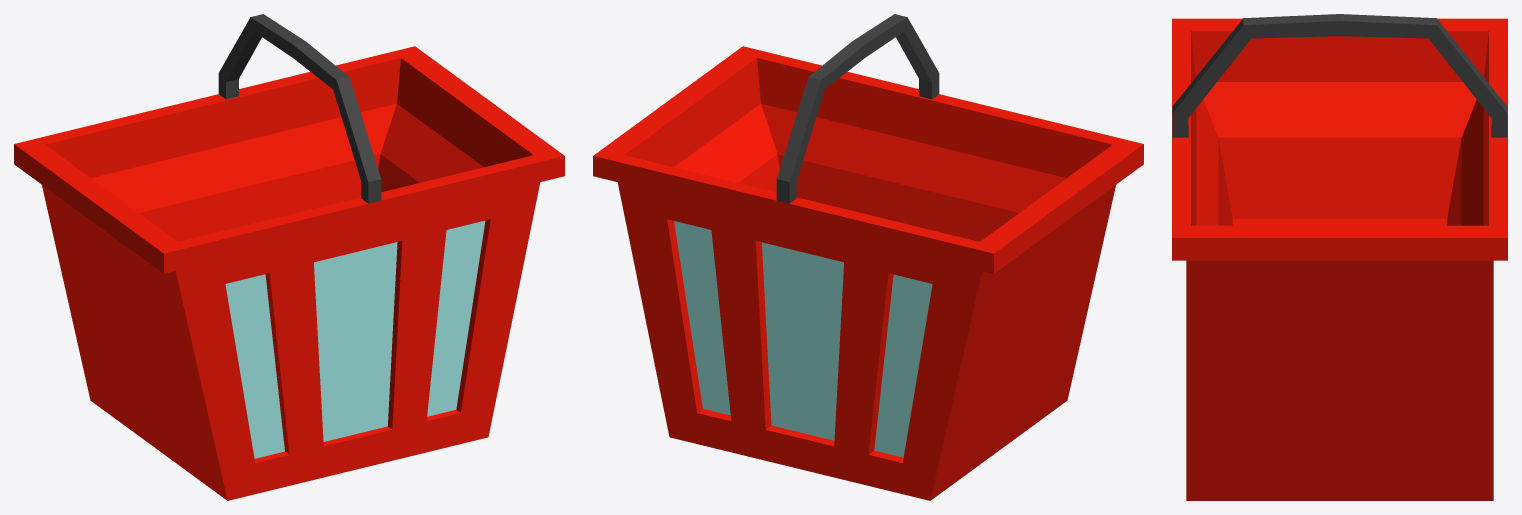
File: Basket.fbx
3 views of the same model, side by side, from view 1: azimuth 30°, elevation 25°; view 2: azimuth 150°, elevation 25°; view 3: azimuth 270°, elevation 25° (orthographic). The views are drawn at different scales.
Parts seen in each view (by area): view 1: Cube.006; view 2: Cube.006; view 3: Cube.006.
Part boxes in pixels (x1,y1,x2,y2): Cube.006: (14,14,564,500); Cube.006: (593,14,1143,500); Cube.006: (1172,14,1507,500).
Bounding box in the file's own units: 849 × 754 × 549.
